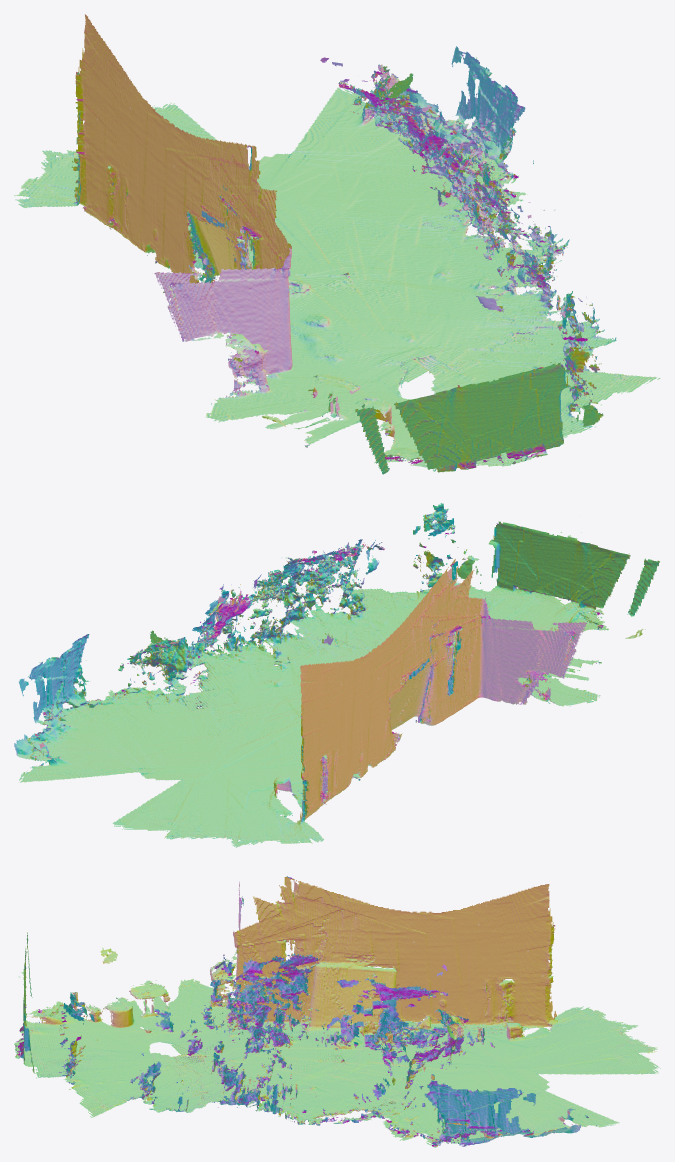
Rendered from background.glb.
3 views of the same model, one above another, from view 1: azimuth 30°, elevation 25°; view 2: azimuth 150°, elevation 25°; view 3: azimuth 270°, elevation 25° (orthographic). The views are drawn at different scales.
Visible parts, largest first — view 1: AbundanceScan-2026-09-26_183446.glb; view 2: AbundanceScan-2026-09-26_183446.glb; view 3: AbundanceScan-2026-09-26_183446.glb.
Part boxes in pixels (<box>): AbundanceScan-2026-09-26_183446.glb: <box>14,14,660,474</box>; AbundanceScan-2026-09-26_183446.glb: <box>14,503,659,847</box>; AbundanceScan-2026-09-26_183446.glb: <box>14,876,660,1147</box>.
Size of the model in its own units: 11.61 by 4.46 by 17.51.
